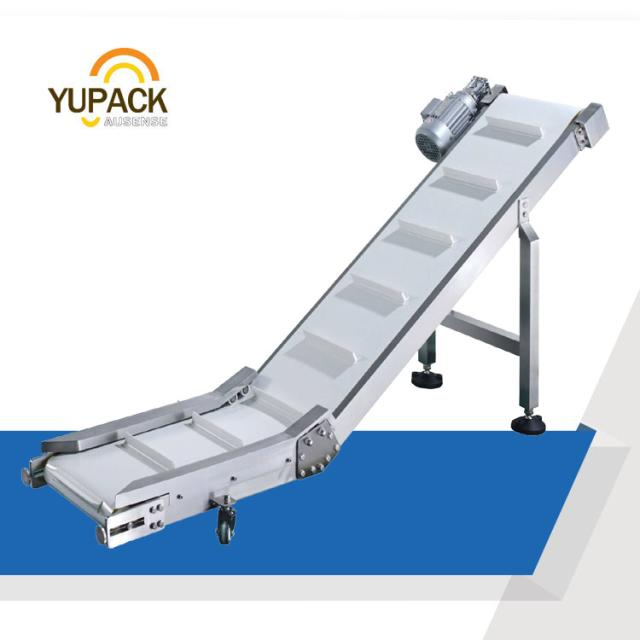conveyor: (19, 67, 600, 562)
